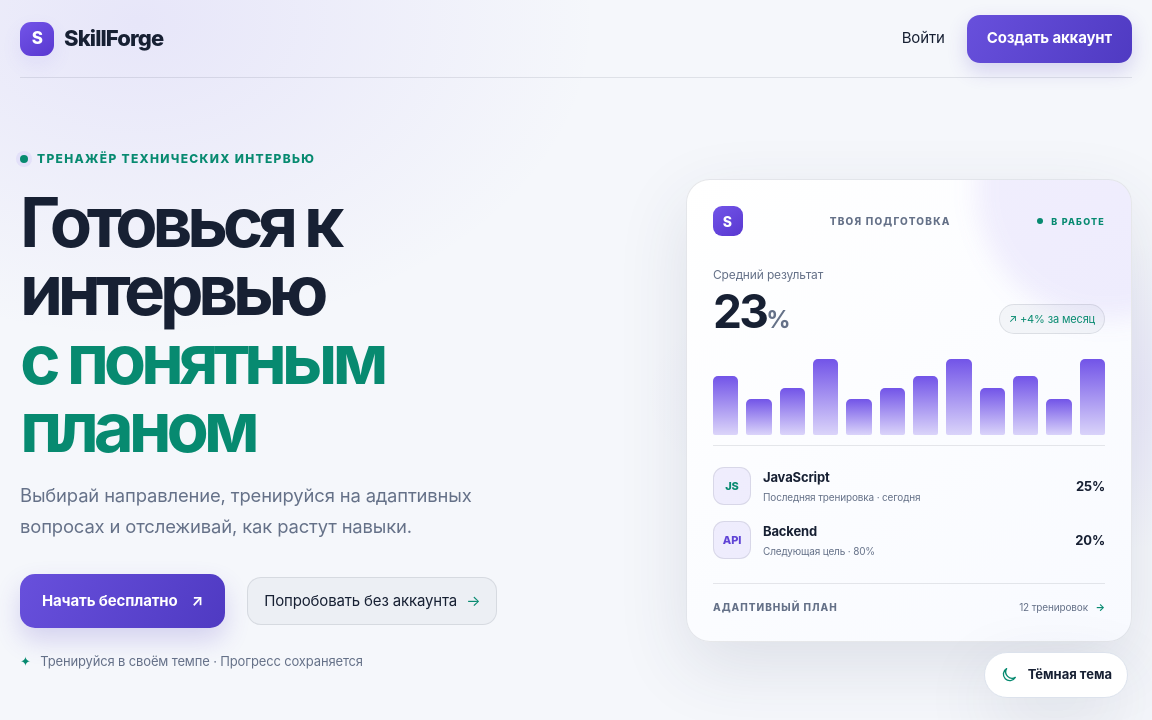
Test: appearance theme › applies the saved theme and persists a new selection
Click the button with aria-label "Переключить на тёмную тему". click: (1056,675)
box: [984,652,1128,698]
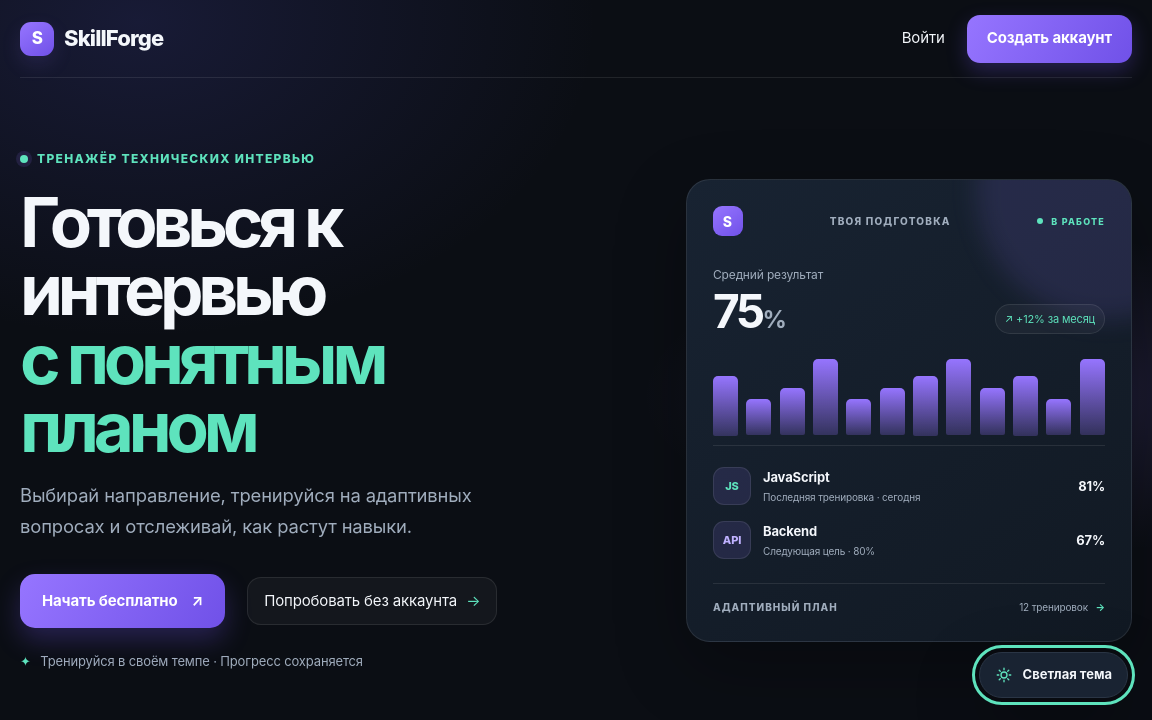
Check: the button with aria-label "Переключить на светлую тему" is shown, box [979,652,1128,698]
